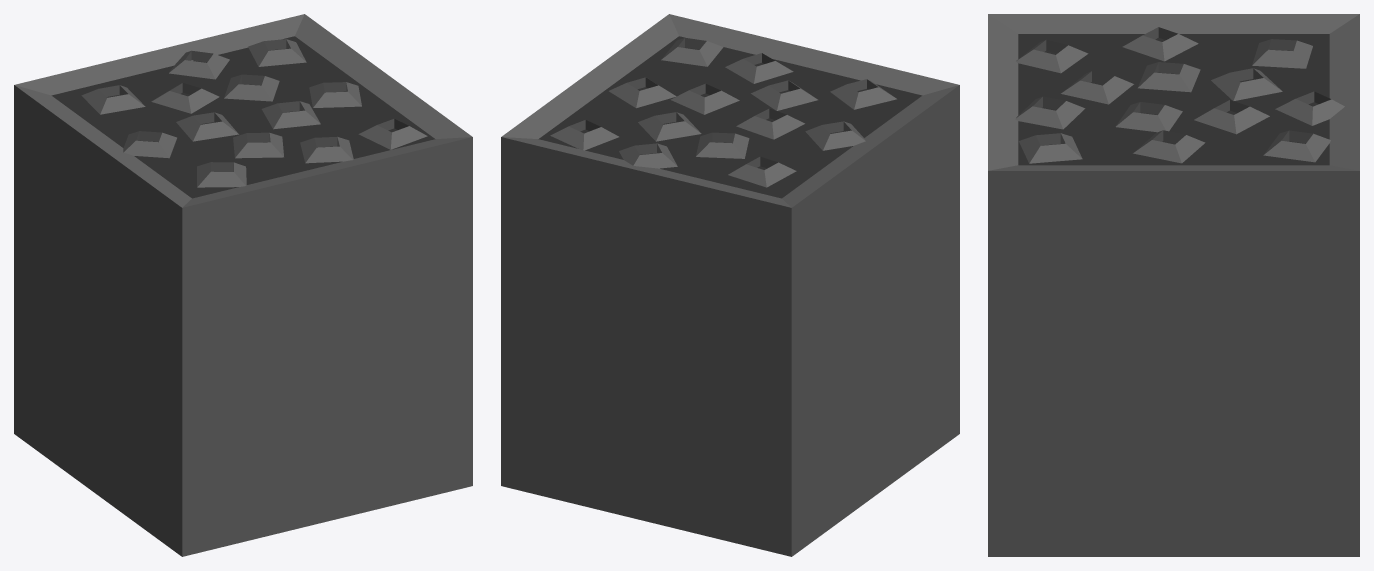
File: Obstacle_GroundSpike_Base.fbx
3 renders of one model, left to right at view 1: azimuth 30°, elevation 25°; view 2: azimuth 150°, elevation 25°; view 3: azimuth 270°, elevation 25°, orthographic. The views are drawn at different scales.
Visible parts, largest first — view 1: Obstacle_GroundSpike_Base; view 2: Obstacle_GroundSpike_Base; view 3: Obstacle_GroundSpike_Base.
Boxes of the visible parts, box(x1,y1,x2,y2) form: Obstacle_GroundSpike_Base: box(14, 14, 472, 556); Obstacle_GroundSpike_Base: box(501, 14, 959, 556); Obstacle_GroundSpike_Base: box(988, 14, 1359, 556).
Bounding box in the file's own units: 400 × 464 × 401.
